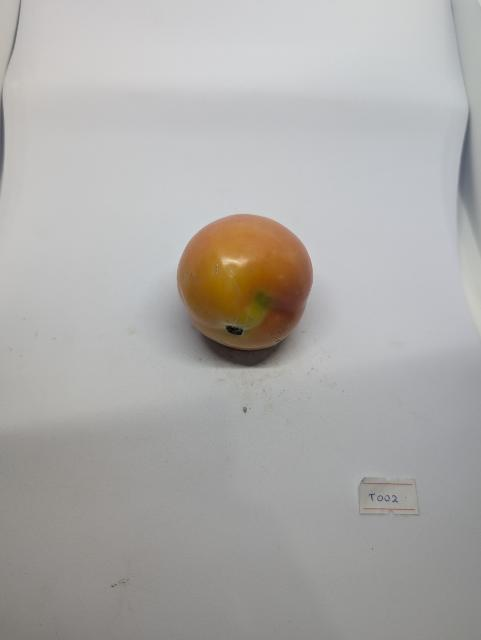turning: (172, 208, 318, 352)
